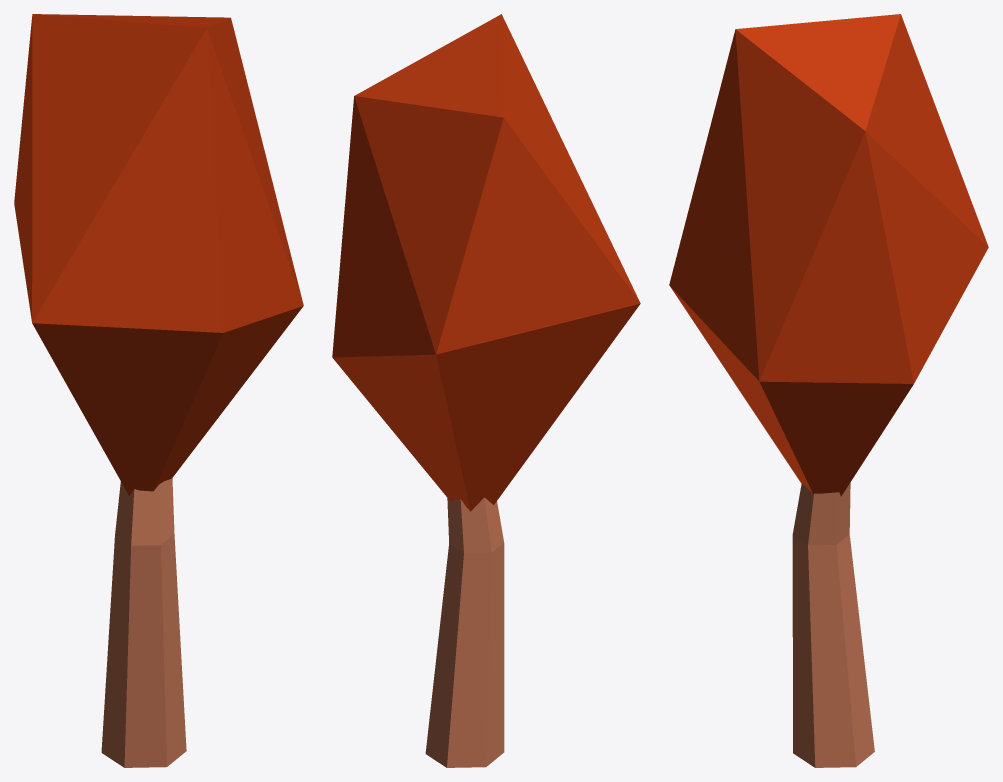
The model's file is Tree_08_summer_red_mat.fbx.
3 views of the same model, side by side, from view 1: azimuth 30°, elevation 25°; view 2: azimuth 150°, elevation 25°; view 3: azimuth 270°, elevation 25° (orthographic). The views are drawn at different scales.
Parts seen in each view (by area): view 1: Tree_08_summer_red_mat; view 2: Tree_08_summer_red_mat; view 3: Tree_08_summer_red_mat.
Boxes of the visible parts, box(x1,y1,x2,y2) form: Tree_08_summer_red_mat: box(14, 14, 303, 767); Tree_08_summer_red_mat: box(332, 14, 640, 767); Tree_08_summer_red_mat: box(669, 14, 988, 767).
Bounding box in the file's own units: 93.3 × 249 × 98.84.
